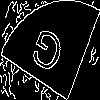G: (25, 25, 66, 85)
